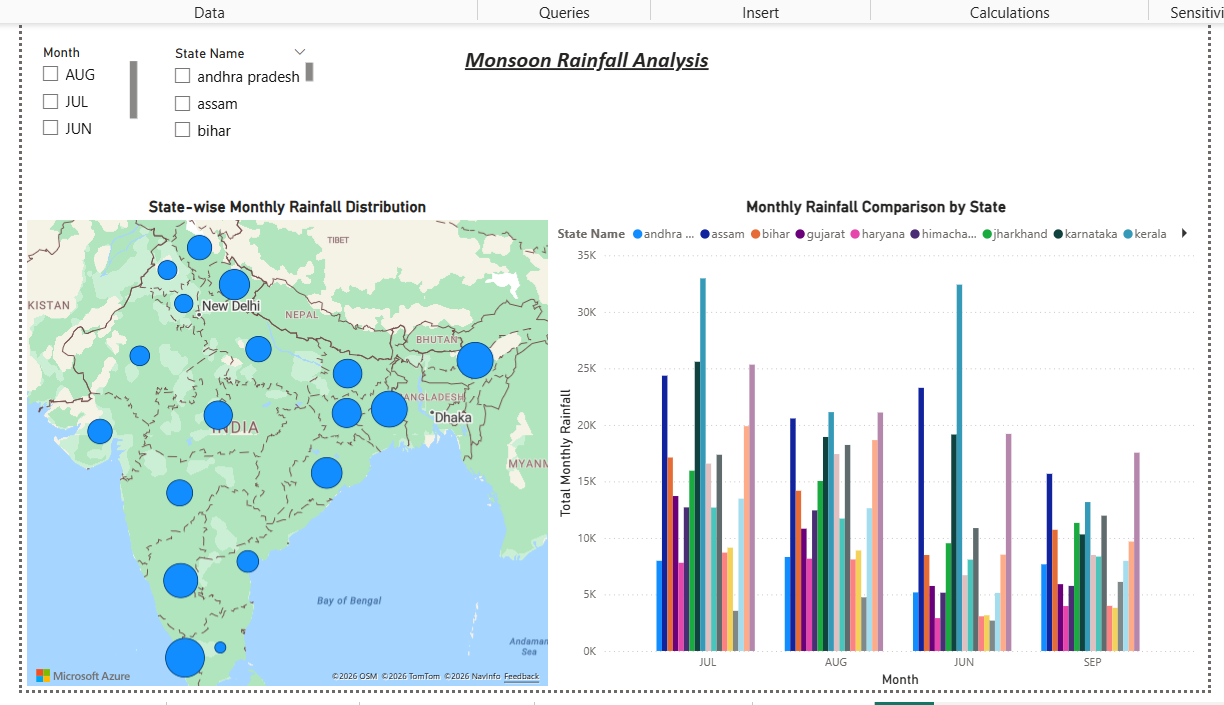

Layout of this report page (visuals, bound fields, positions):
{"tool":"powerbi","page":{"name":"Rainfall Analysis","canvas":[1280,720],"ordinal":1},"visuals":[{"type":"azureMap","title":"State-wise Monthly Rainfall Distribution","fields":{"Category":["Dim_State.State Name"],"Size":["Dim_Date.Total Monthly Rainfall"]},"box":[0,187.8,573.2,532.7],"z":0},{"type":"slicer","fields":{"Values":["Fact_Rainfall_Monthly.Month"]},"box":[9.7,17.8,119.8,113.3],"z":1000},{"type":"clusteredColumnChart","title":"Monthly Rainfall Comparison by State","fields":{"Category":["Fact_Rainfall_Monthly.Month"],"Y":["Dim_Date.Total Monthly Rainfall"],"Series":["Dim_State.State Name"]},"box":[573.2,187.8,697.9,532.7],"z":2000},{"type":"slicer","fields":{"Values":["Dim_State.State Name"]},"box":[152.2,19.4,166.8,113.3],"z":3000},{"type":"textbox","box":[459.9,19.4,299.6,42.1],"z":4000}]}

Visuals, with their boxes on the page's 1280x720 design canvas (x1, y1, x2, y2). These are canvas units, not pixel positions in the 1224x705 screenshot, which may show the page scaled, cropped or inside an application window:
"State-wise Monthly Rainfall Distribution" azureMap: detection(0, 188, 573, 720)
slicer - Fact_Rainfall_Monthly.Month: detection(10, 18, 130, 131)
"Monthly Rainfall Comparison by State" clusteredColumnChart: detection(573, 188, 1271, 720)
slicer - Dim_State.State Name: detection(152, 19, 319, 133)
textbox: detection(460, 19, 760, 62)
